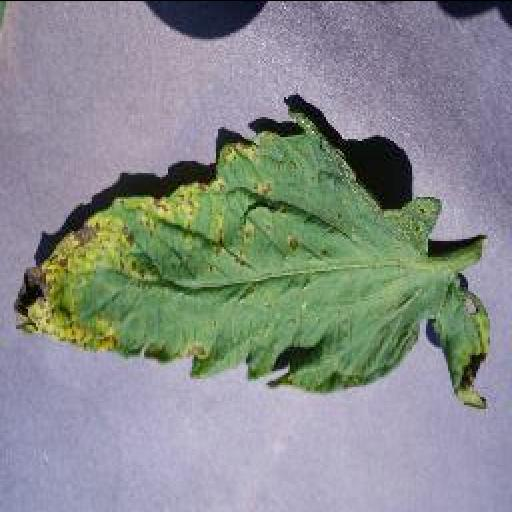disease_tomato: (12, 112, 494, 405)
